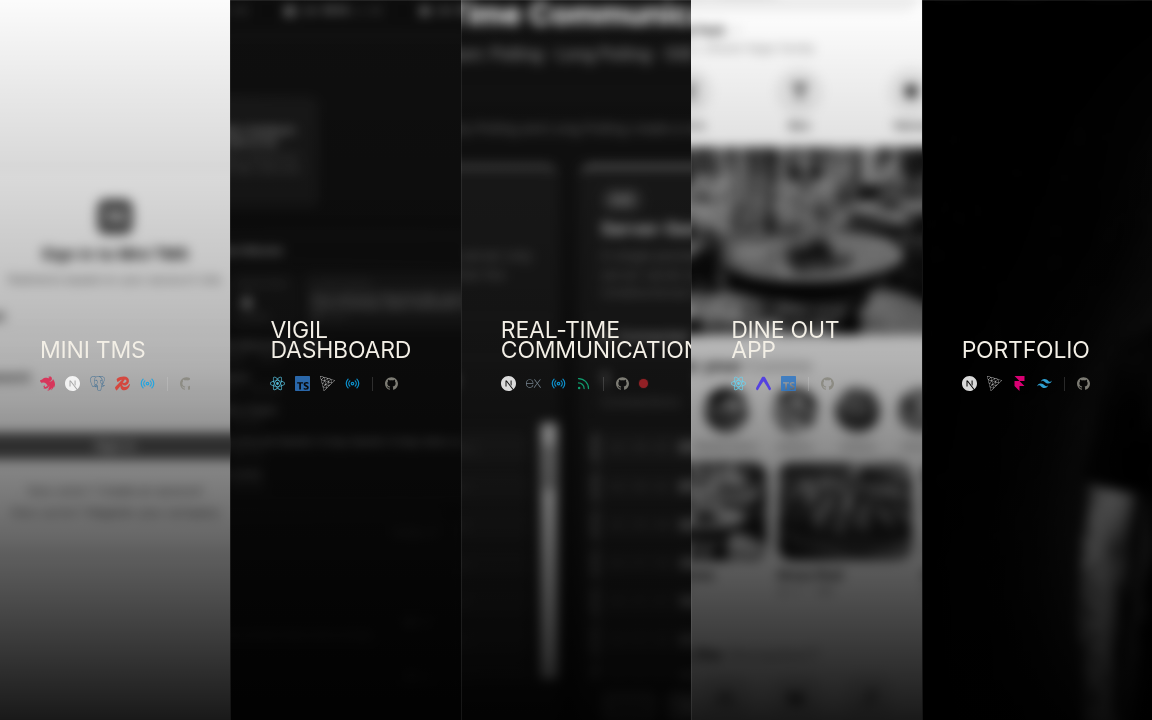
Test: WorkSection — desktop panels › only keeps one panel expanded at a time
What coordinates should you click on to do the following:
click the button "Mini TMS"
I would click on:
 (115, 360)
Its box is [0,0,230,719].
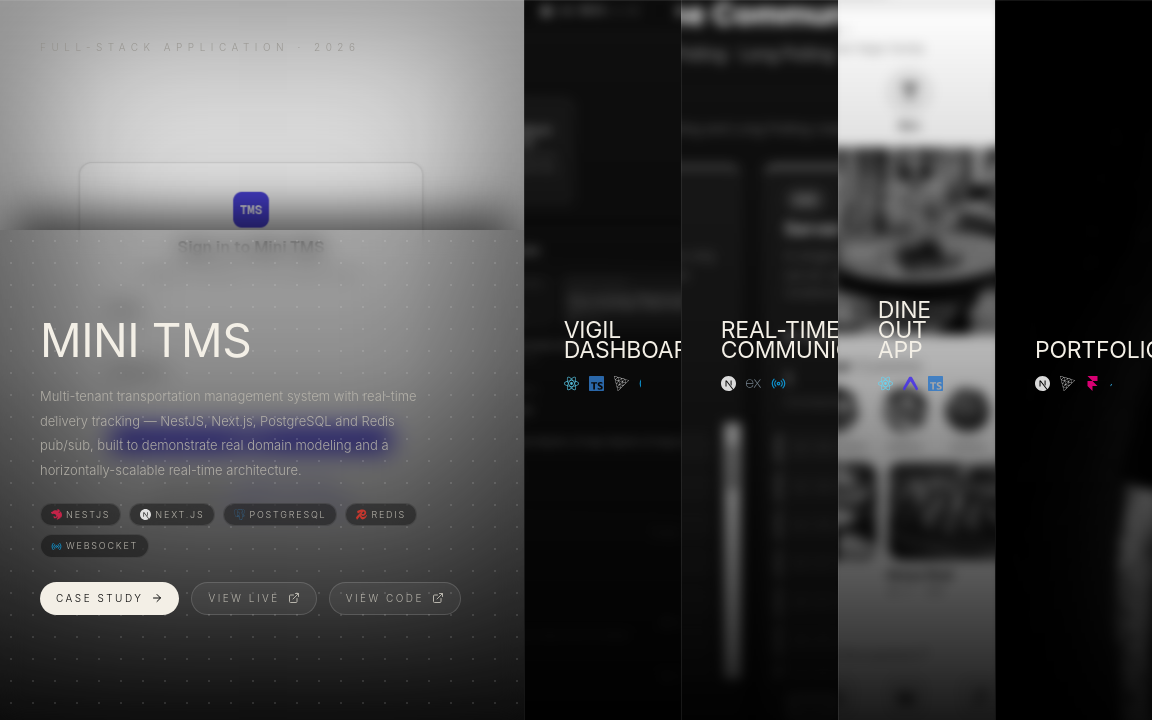
Result: the button "Mini TMS" is expanded at [0,0,524,719]
What coordinates should you click on to do the following:
click the button "Vigil Dashboard"
I would click on:
 (602, 360)
Its box is [524,0,681,719].
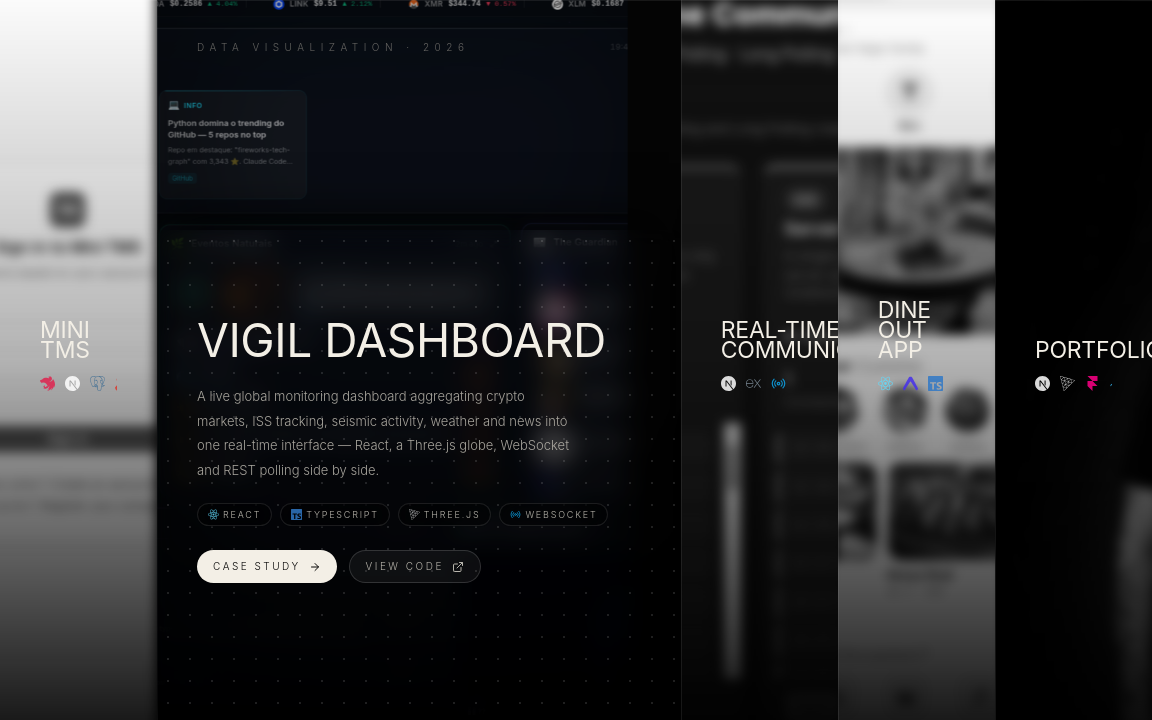
Result: the button "Vigil Dashboard" is expanded at [157,0,681,719]
Result: the button "Mini TMS" is collapsed at [0,0,157,719]
